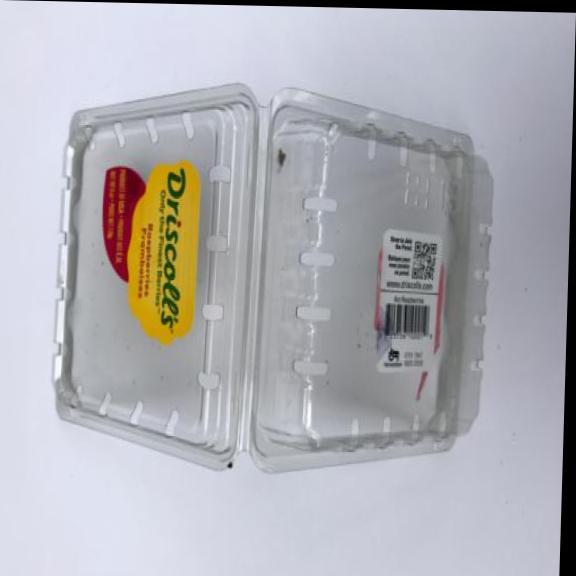Plastik: (50, 77, 500, 477)
